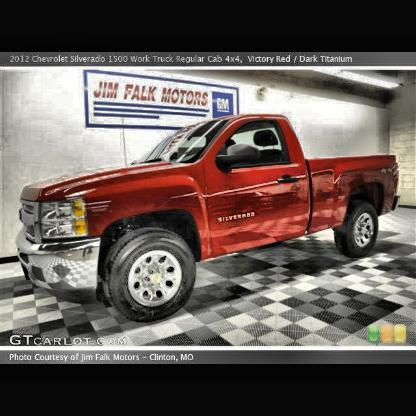Chevrolet Silverado 1500 Regular Cab 2012: (9, 105, 412, 331)
